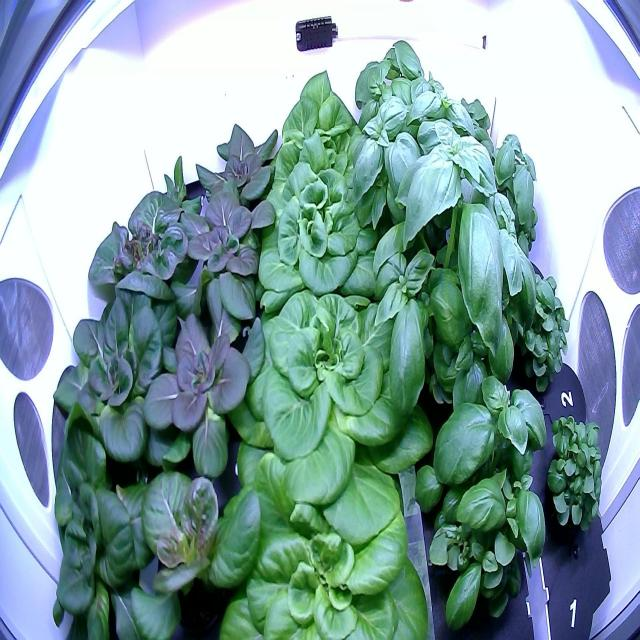Ready: (212, 427, 433, 638), (236, 273, 421, 462), (255, 148, 388, 311), (267, 65, 377, 201)
young: (118, 416, 263, 640), (41, 268, 193, 481), (133, 275, 268, 494), (39, 403, 164, 638), (160, 174, 280, 348), (79, 178, 207, 327), (187, 115, 284, 232), (130, 146, 205, 231)
